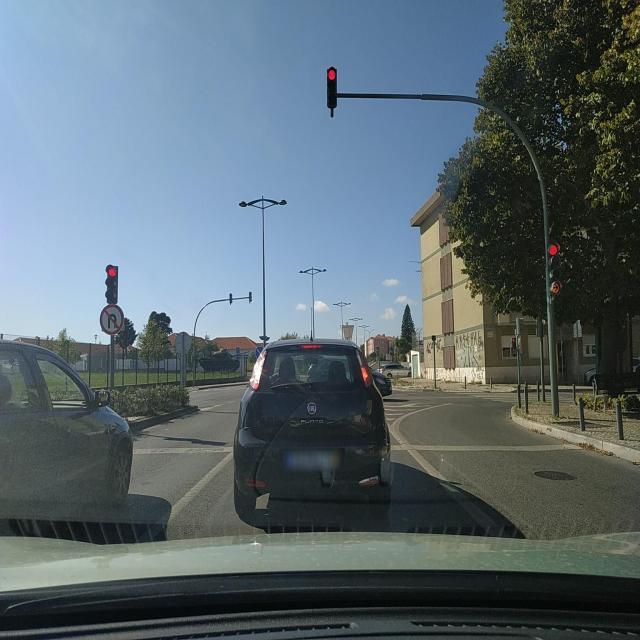car: (232, 337, 392, 528), (0, 337, 134, 517), (369, 366, 393, 398), (380, 362, 412, 378)
